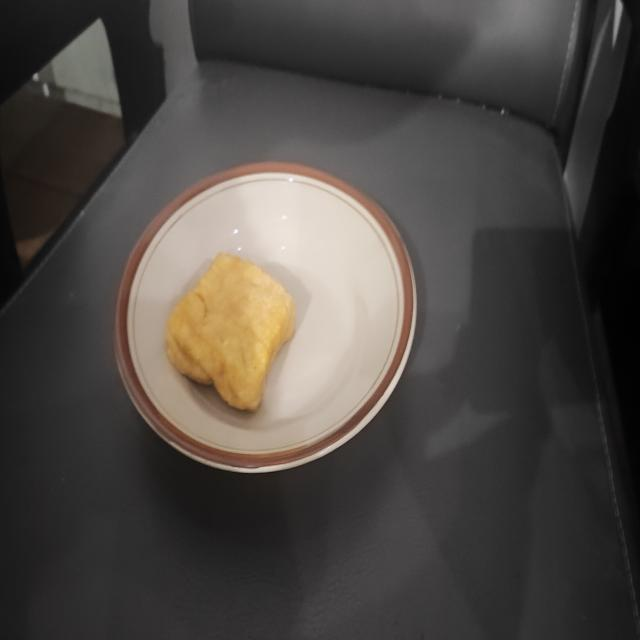tahu_goreng: (167, 253, 295, 411)
